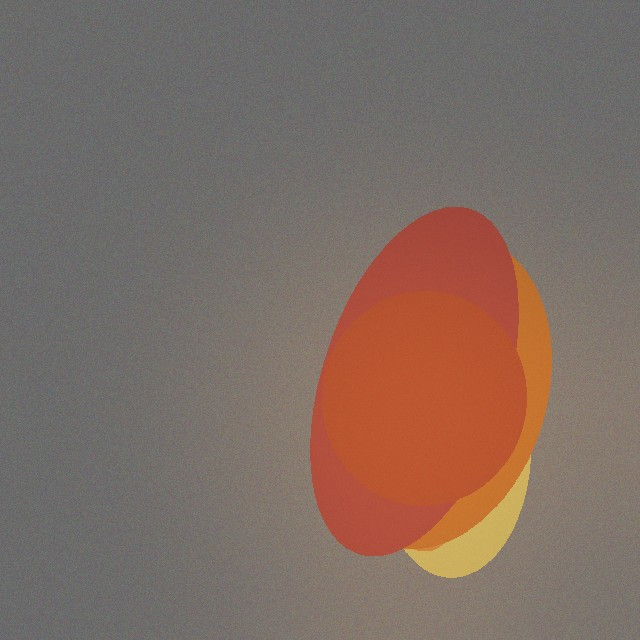fire: (284, 354, 550, 486)
